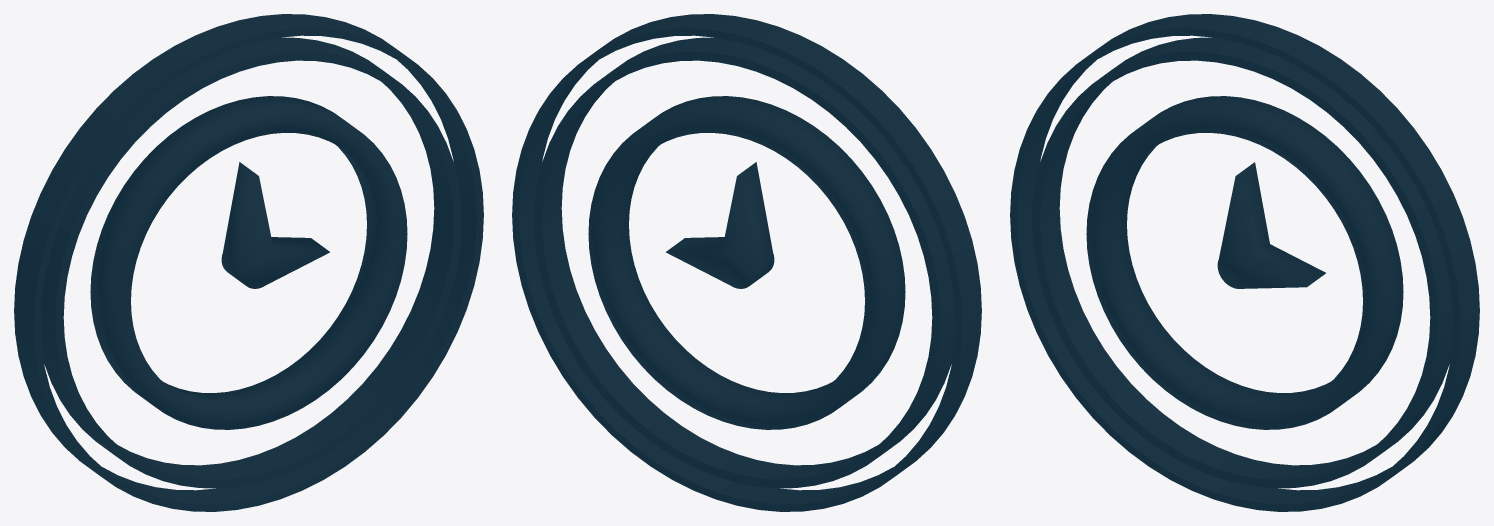
Rendered from timer2.gltf.
3 renders of one model, left to right at view 1: azimuth 30°, elevation 25°; view 2: azimuth 150°, elevation 25°; view 3: azimuth 330°, elevation 25°, orthographic.
Parts seen in each view (by area): view 1: Circle.015, Circle.016, Circle.017, Circle.013; view 2: Circle.015, Circle.016, Circle.017, Circle.013; view 3: Circle.015, Circle.016, Circle.017, Circle.013.
Part boxes in pixels (left/top/right/bottom): Circle.015: left=90, top=96, right=407, bottom=429; Circle.016: left=14, top=14, right=483, bottom=511; Circle.017: left=40, top=37, right=461, bottom=488; Circle.013: left=221, top=162, right=329, bottom=288; Circle.015: left=588, top=96, right=905, bottom=429; Circle.016: left=512, top=14, right=981, bottom=511; Circle.017: left=534, top=37, right=955, bottom=488; Circle.013: left=666, top=162, right=774, bottom=288; Circle.015: left=1086, top=96, right=1403, bottom=429; Circle.016: left=1010, top=14, right=1479, bottom=511; Circle.017: left=1032, top=37, right=1453, bottom=488; Circle.013: left=1217, top=162, right=1325, bottom=288.
Bounding box in the file's own units: 2 × 2 × 0.15.
